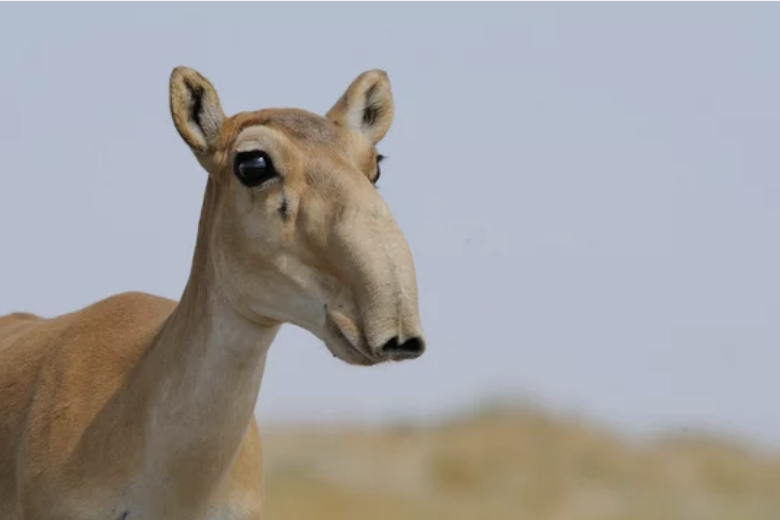saiga: (13, 56, 440, 520)
